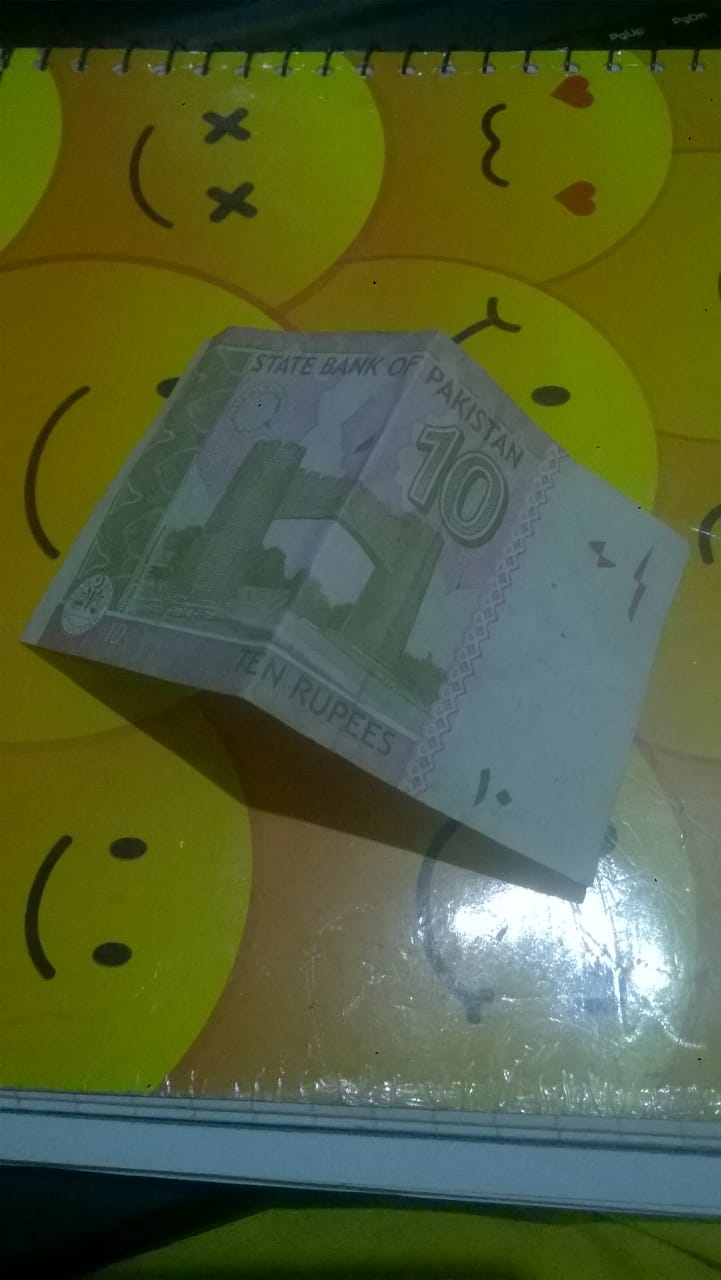10 rupee: (26, 319, 717, 893)
